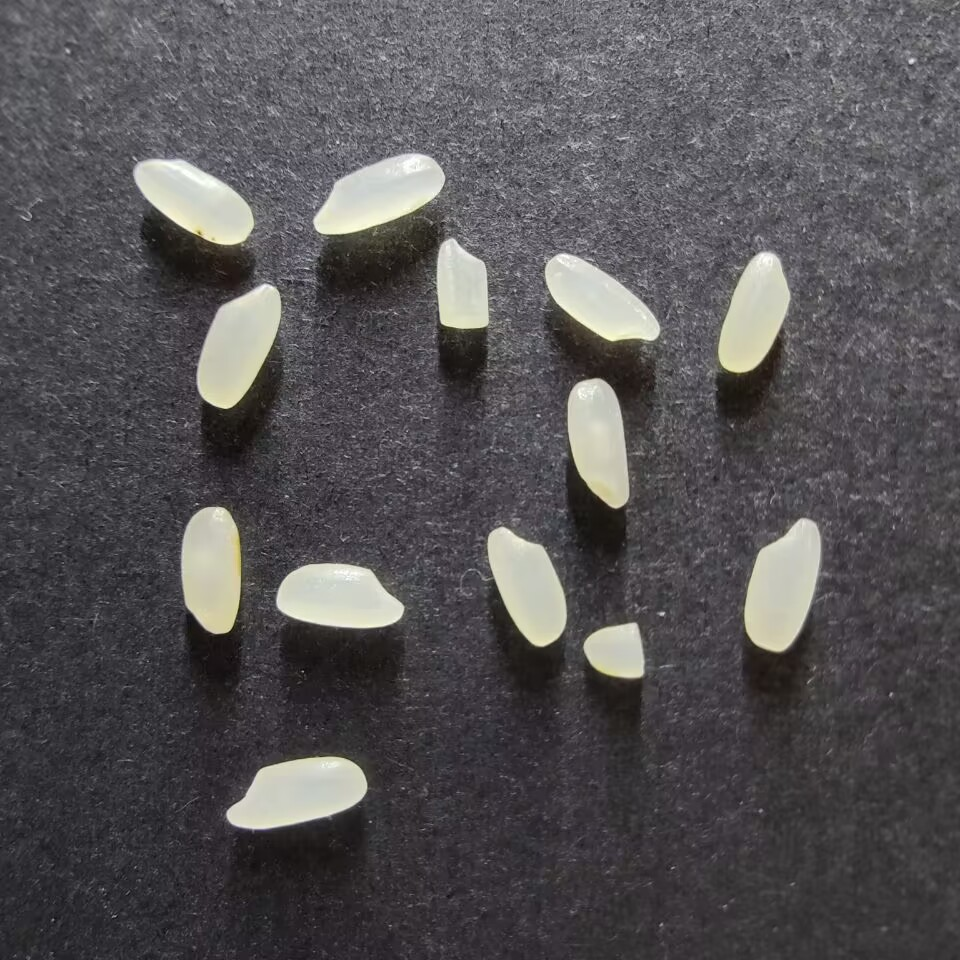broken: (435, 238, 489, 330), (583, 622, 645, 679)
rice: (195, 282, 281, 409), (312, 153, 445, 235), (133, 157, 254, 245), (743, 518, 821, 653), (225, 757, 368, 830), (544, 253, 661, 342), (486, 526, 567, 647), (717, 251, 791, 374), (566, 378, 630, 509), (276, 563, 404, 628), (180, 506, 241, 635)
